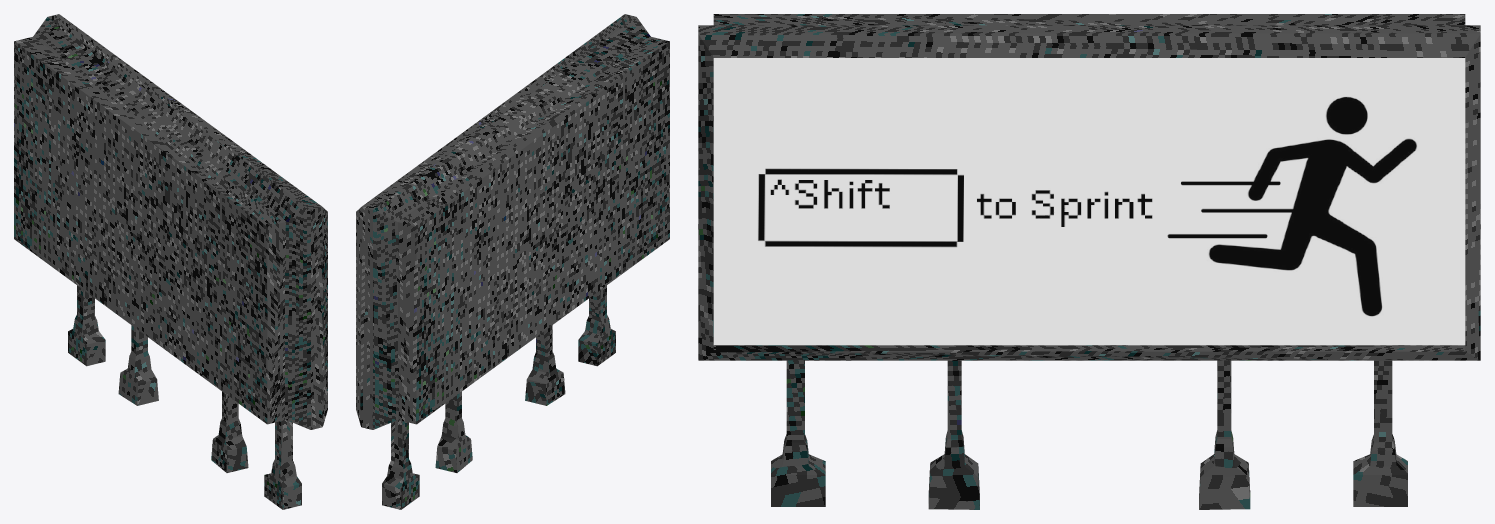
File: shift_billboard.glb
3 renders of one model, left to right at view 1: azimuth 30°, elevation 25°; view 2: azimuth 150°, elevation 25°; view 3: azimuth 270°, elevation 25°, orthographic. The views are drawn at different scales.
Parts seen in each view (by area): view 1: shift_board; view 2: shift_board; view 3: shift_board.
Part boxes in pixels (left/top/right/bottom): shift_board: left=14, top=14, right=327, bottom=509; shift_board: left=356, top=14, right=669, bottom=509; shift_board: left=698, top=14, right=1480, bottom=509.
Size of the model in its own units: 2.1 by 10.56 by 15.84.
Materials: 2 (2 with a texture image).
